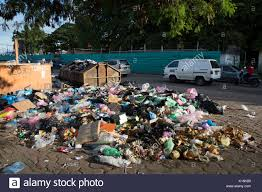garbage: (14, 88, 232, 160)
